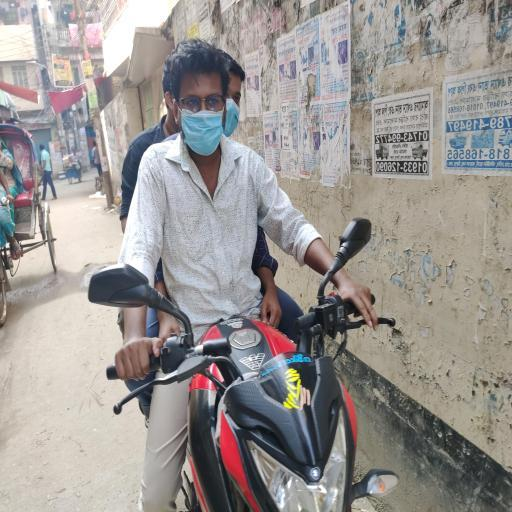no helmet: (152, 40, 287, 236)
triple riding: (80, 33, 464, 512)
